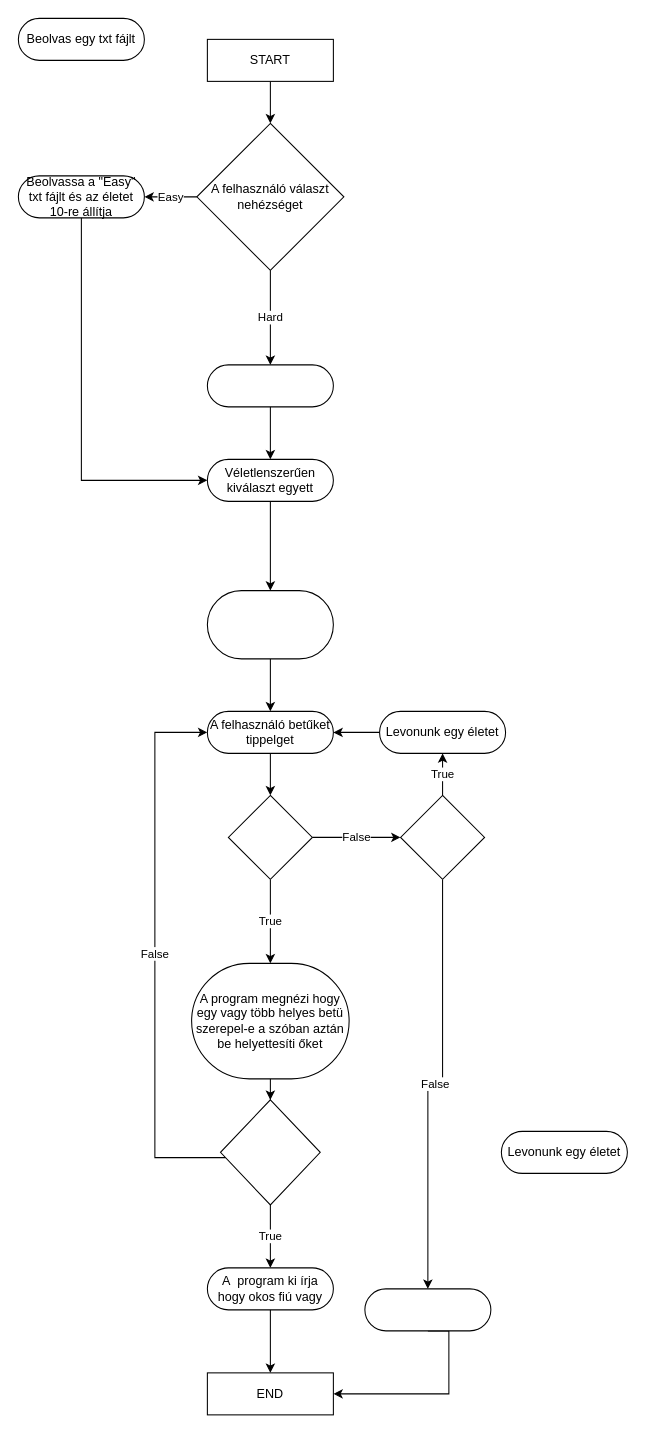
Image size: 646x1433. Some labels were removed from this diagram. The centre of each missing label's shape, as x and y in pixels:
A játék ki írja hogy "Game Over": [427,1309]
Beolvassa a "Hard" txt fájlt és az életet 5-re állítja: [269,385]
Jó betűt tippelt?: [269,836]
Megjeleníti a megfelelő számú alsó vonalat plusz a grafikát: [269,624]
Megvan az összes betü?: [269,1152]
Van még életünk?: [442,836]
